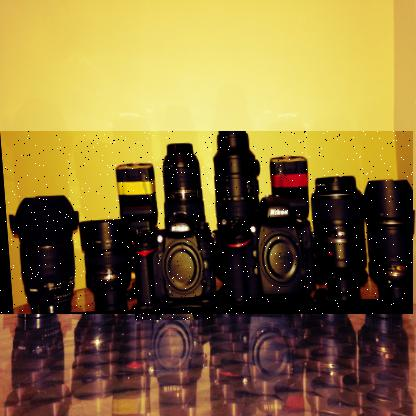Camera: (2, 132, 416, 316), (136, 150, 215, 322)
